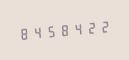eight: (17, 24, 29, 43), (56, 20, 68, 39)
five: (43, 21, 55, 40)
four: (30, 22, 42, 41), (69, 19, 81, 38)
two: (82, 18, 94, 37), (95, 17, 107, 36)
